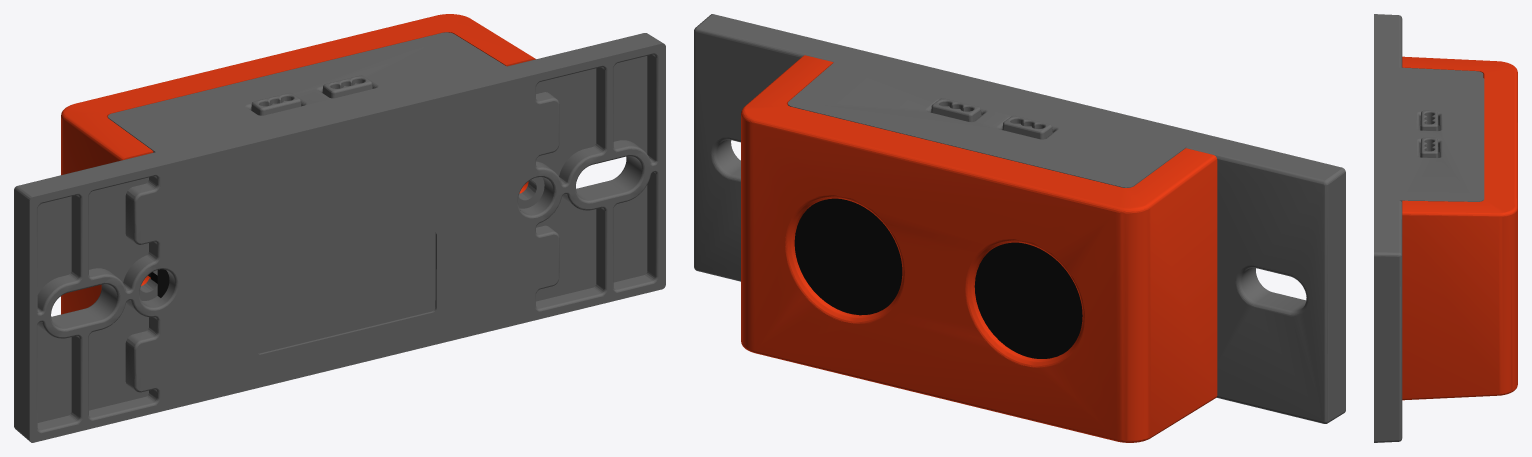
The model's file is Ultrasonic_Range_Finder__276-2155_.glb.
The picture shows the model from 3 angles, left to right: view 1: azimuth 30°, elevation 25°; view 2: azimuth 150°, elevation 25°; view 3: azimuth 270°, elevation 25°; orthographic projection. The views are drawn at different scales.
Parts seen in each view (by area): view 1: Ultrasonic Range Finder (276-2155); view 2: Ultrasonic Range Finder (276-2155); view 3: Ultrasonic Range Finder (276-2155).
Part boxes in pixels (bbox=[...]): Ultrasonic Range Finder (276-2155): bbox=[14, 14, 665, 442]; Ultrasonic Range Finder (276-2155): bbox=[694, 14, 1345, 442]; Ultrasonic Range Finder (276-2155): bbox=[1374, 14, 1517, 442].
Size of the model in its own units: 3.2 by 1.19 by 0.8071.
